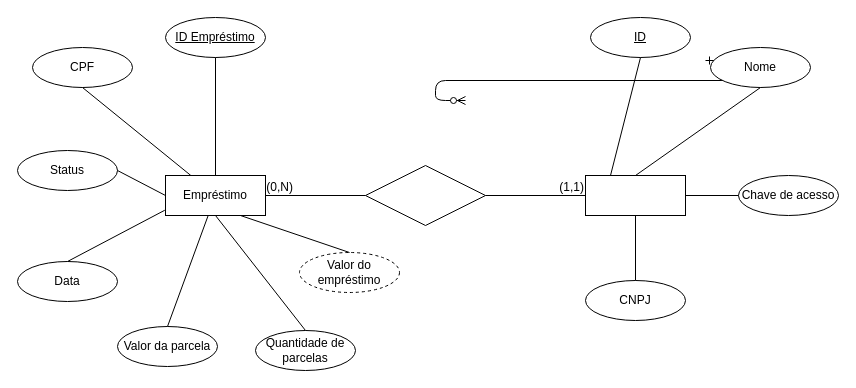
This 856x388 diagram has some shape labels left out. Each missing label, with the centre of its shape:
"Instituição" goes at [635,195].
"Pertence" goes at [425,195].
